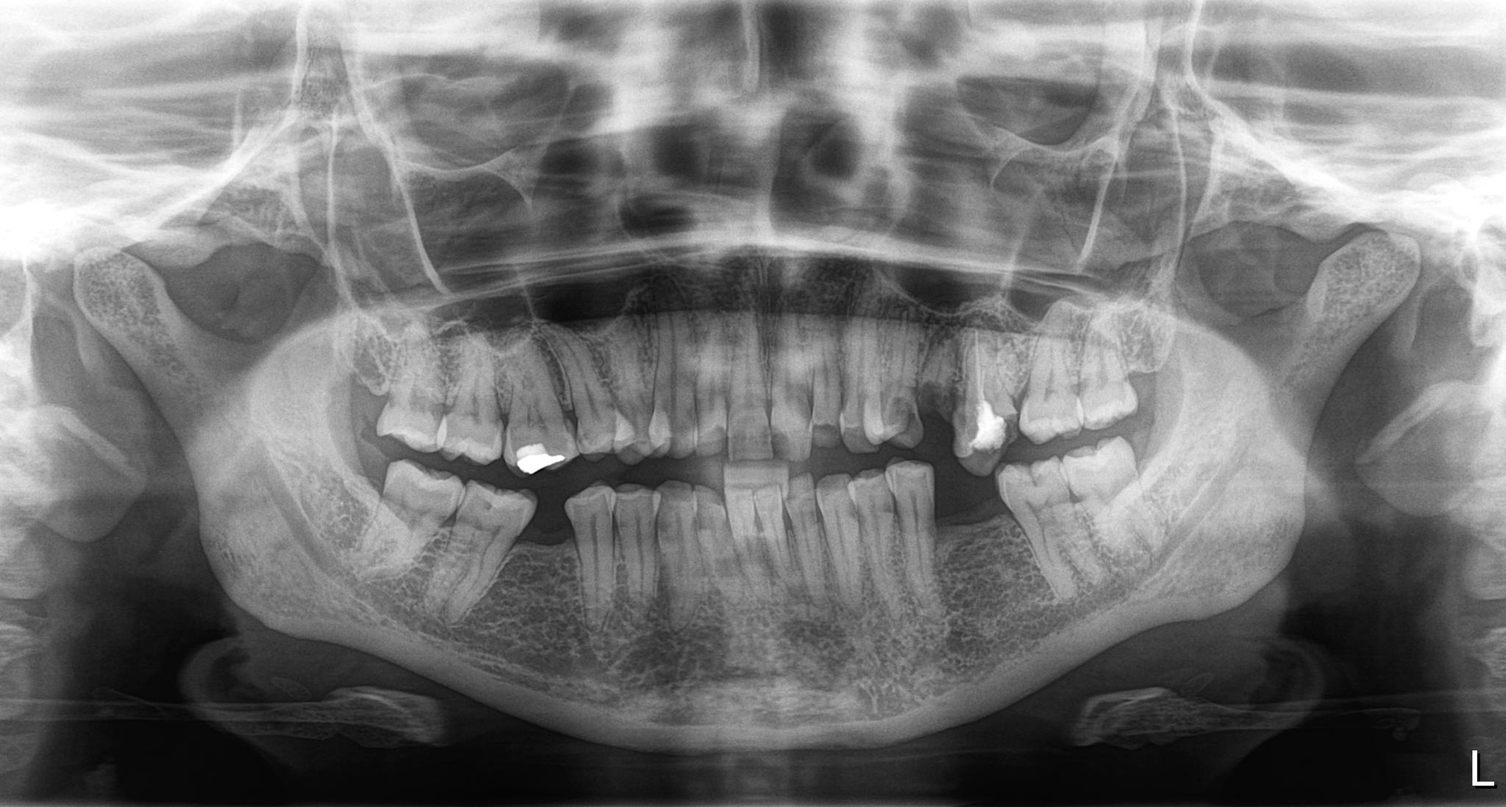Endodontically Treated Tooth: (960, 334, 1020, 460)
Missing Tooth: (934, 476, 1005, 581), (529, 509, 577, 631)
Retained Root: (910, 333, 955, 446)
